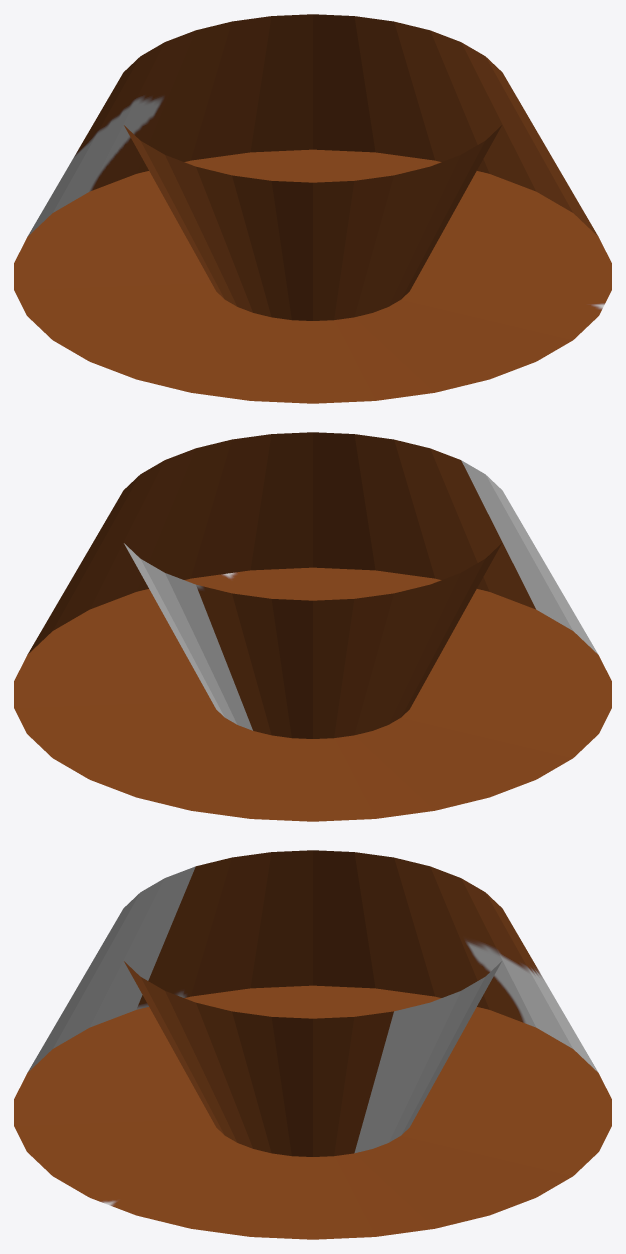
The picture shows the model from 3 angles, top to bottom: view 1: azimuth 30°, elevation 25°; view 2: azimuth 150°, elevation 25°; view 3: azimuth 270°, elevation 25°; orthographic projection.
Visible parts, largest first — view 1: algeomath; view 2: algeomath; view 3: algeomath.
Part boxes in pixels (box(x1,y1,x2,y2)): algeomath: box(14, 14, 611, 403); algeomath: box(14, 432, 611, 821); algeomath: box(14, 850, 611, 1239).
Bounding box in the file's own units: 6 × 1.98 × 5.96.
1 material, 1 textured.
